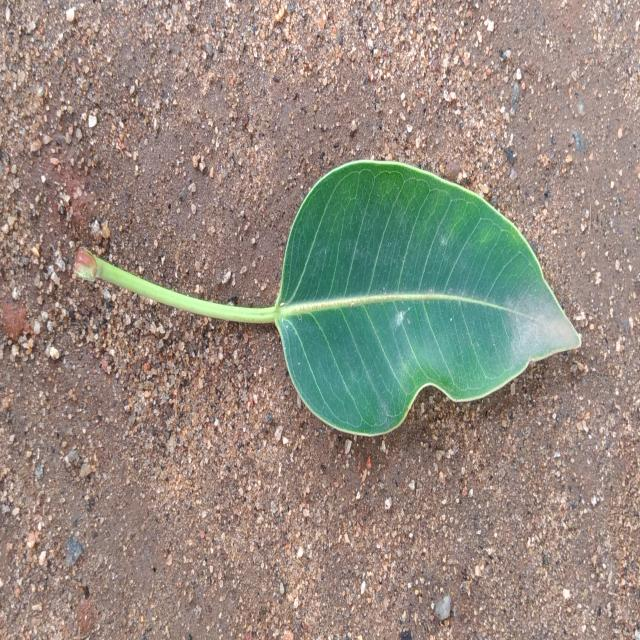camphor: (239, 160, 580, 436)
